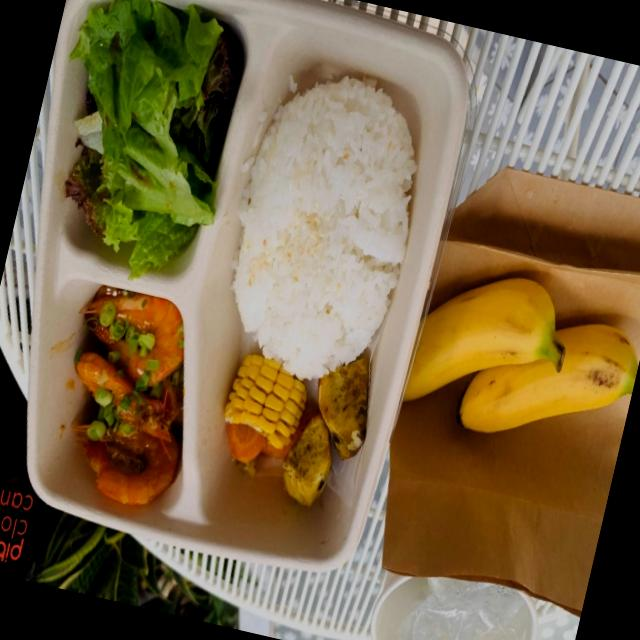ca rot: (228, 423, 266, 463)
chuoi: (404, 278, 562, 401), (459, 325, 638, 432)
com: (233, 78, 416, 379)
rau: (71, 0, 243, 279)
tom: (74, 287, 184, 506)
